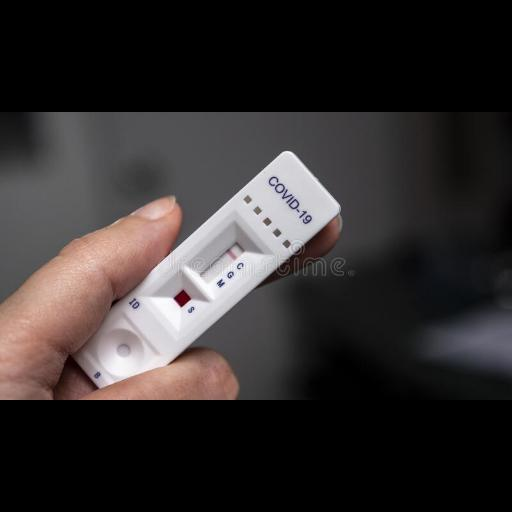Neg: (73, 148, 343, 399)
